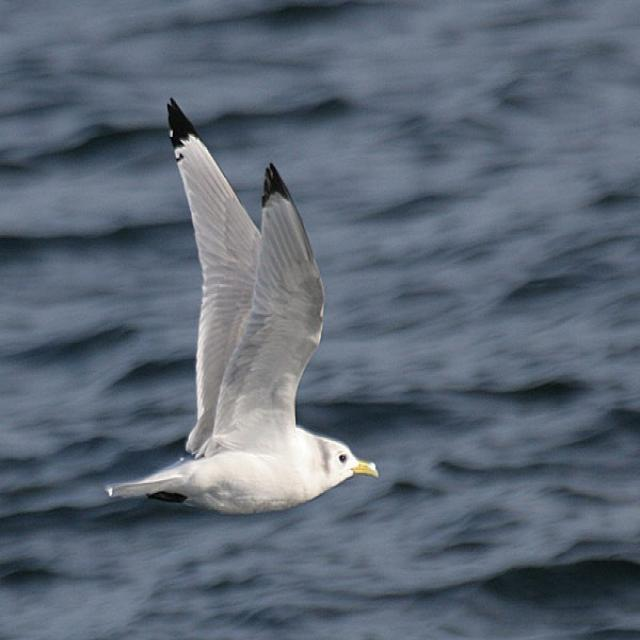bird: (94, 97, 381, 520)
